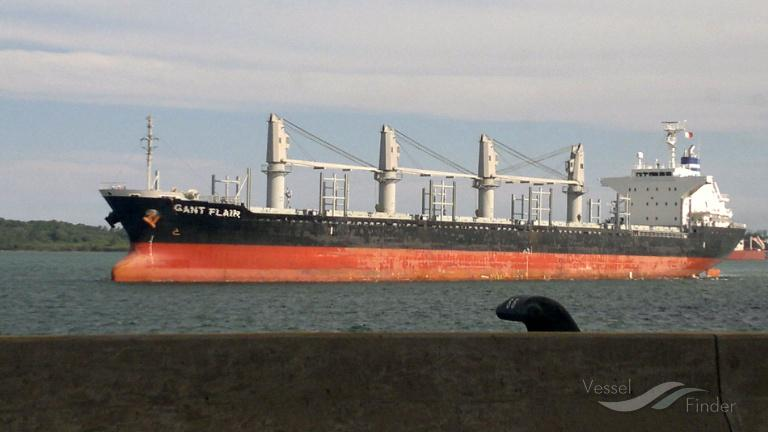OCR: (166, 196, 241, 220)
